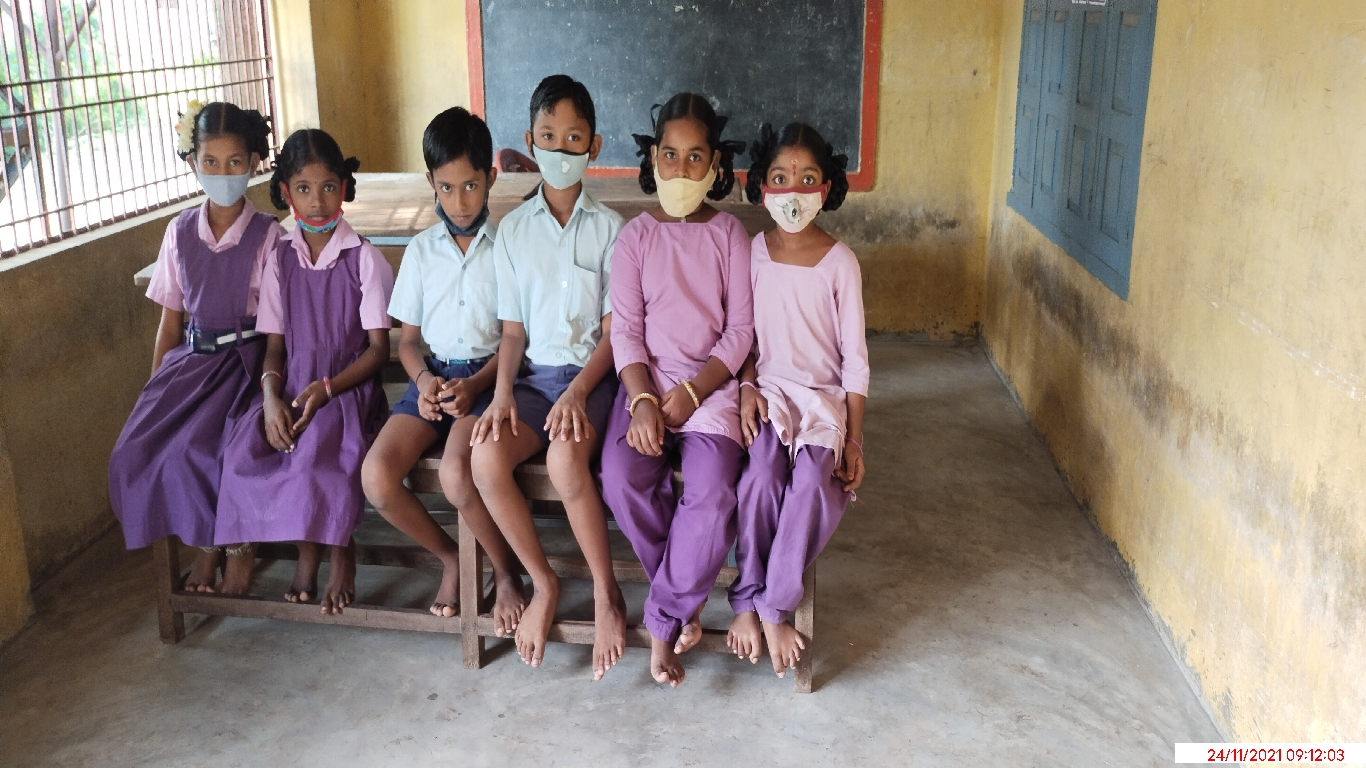student: (615, 87, 748, 450), (133, 94, 271, 441), (744, 118, 869, 470), (498, 71, 611, 434), (382, 103, 495, 444), (263, 140, 384, 457)
